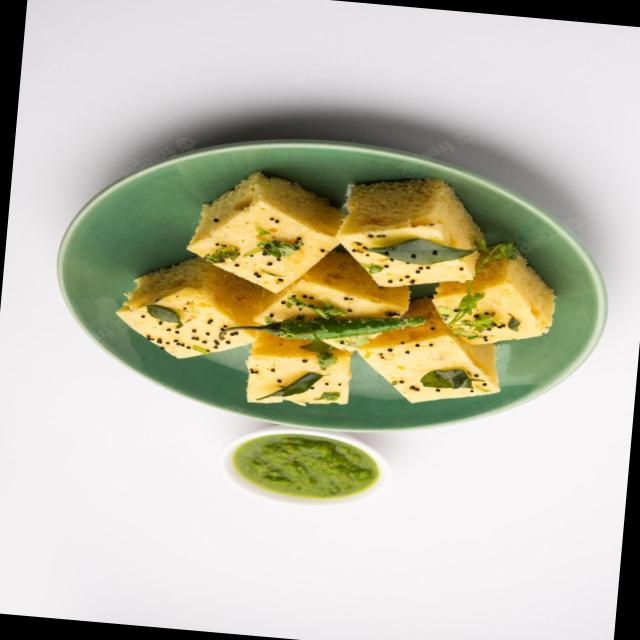dhokla: (113, 169, 550, 426)
